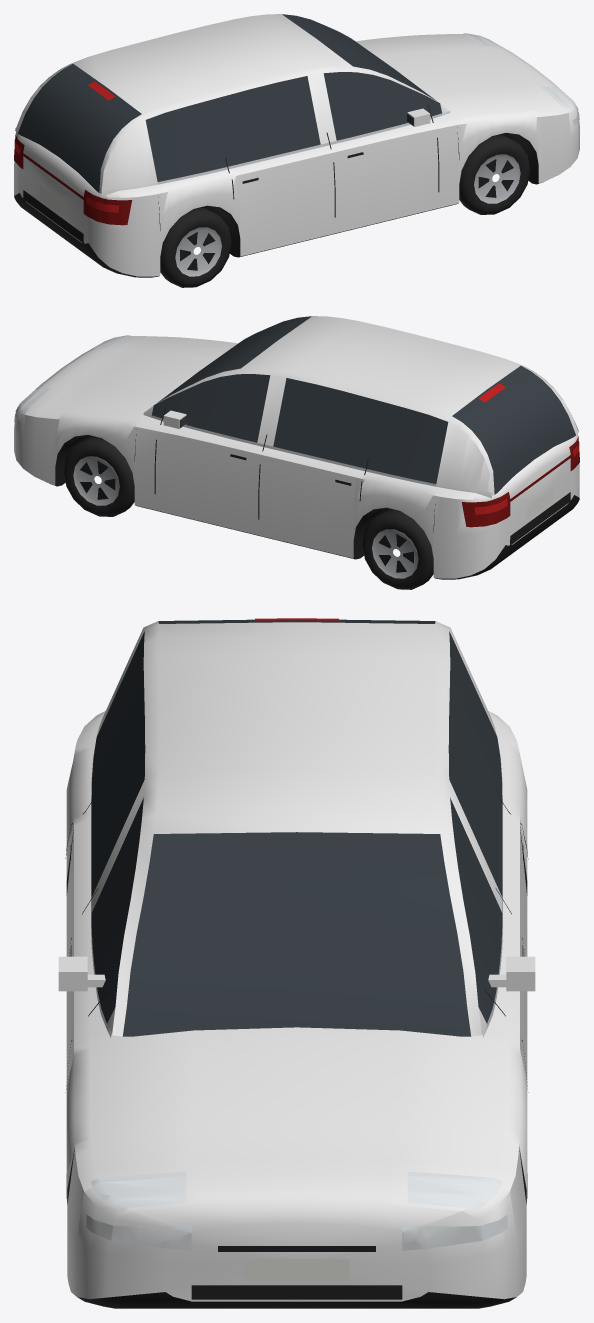
The model's file is kiln_hatchback.glb.
The picture shows the model from 3 angles, top to bottom: view 1: azimuth 30°, elevation 25°; view 2: azimuth 150°, elevation 25°; view 3: azimuth 270°, elevation 25°; orthographic projection. The views are drawn at different scales.
Visible parts, largest first — view 1: Mesh_Paint_L0, Mesh_Glass_L0, Mesh_Tyre_FL, Mesh_Trim_L0, Mesh_Rim_FL, Mesh_Taillight_L0, Mesh_Chrome_L0, Mesh_Headlight_L0, Mesh_BrakeLight_L0, Mesh_Plate_L0; view 2: Mesh_Paint_L0, Mesh_Glass_L0, Mesh_Tyre_FL, Mesh_Trim_L0, Mesh_Rim_FL, Mesh_Taillight_L0, Mesh_Chrome_L0, Mesh_Headlight_L0, Mesh_BrakeLight_L0, Mesh_Plate_L0; view 3: Mesh_Paint_L0, Mesh_Glass_L0, Mesh_Headlight_L0, Mesh_Trim_L0, Mesh_Plate_L0.
Part boxes in pixels (<box>): Mesh_Paint_L0: <box>14,14,579,276</box>; Mesh_Glass_L0: <box>18,14,441,192</box>; Mesh_Tyre_FL: <box>160,135,530,287</box>; Mesh_Trim_L0: <box>14,105,543,277</box>; Mesh_Rim_FL: <box>175,154,520,276</box>; Mesh_Taillight_L0: <box>14,133,132,225</box>; Mesh_Chrome_L0: <box>157,113,442,184</box>; Mesh_Headlight_L0: <box>463,33,579,125</box>; Mesh_BrakeLight_L0: <box>14,81,119,212</box>; Mesh_Plate_L0: <box>39,185,67,218</box>; Mesh_Paint_L0: <box>14,316,579,578</box>; Mesh_Glass_L0: <box>152,316,575,494</box>; Mesh_Tyre_FL: <box>63,437,433,589</box>; Mesh_Trim_L0: <box>50,407,579,579</box>; Mesh_Rim_FL: <box>73,456,418,578</box>; Mesh_Taillight_L0: <box>461,436,579,527</box>; Mesh_Chrome_L0: <box>151,415,436,486</box>; Mesh_Headlight_L0: <box>14,335,130,427</box>; Mesh_BrakeLight_L0: <box>474,383,579,514</box>; Mesh_Plate_L0: <box>526,487,554,520</box>; Mesh_Paint_L0: <box>58,621,535,1301</box>; Mesh_Glass_L0: <box>91,619,502,1036</box>; Mesh_Headlight_L0: <box>86,1171,507,1250</box>; Mesh_Trim_L0: <box>65,789,528,1308</box>; Mesh_Plate_L0: <box>244,1259,349,1280</box>.
Bounding box in the file's own units: 4.25 × 1.47 × 1.81.
